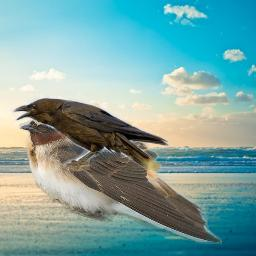Crow: (10, 94, 172, 172)
Swallow: (19, 104, 222, 244)
